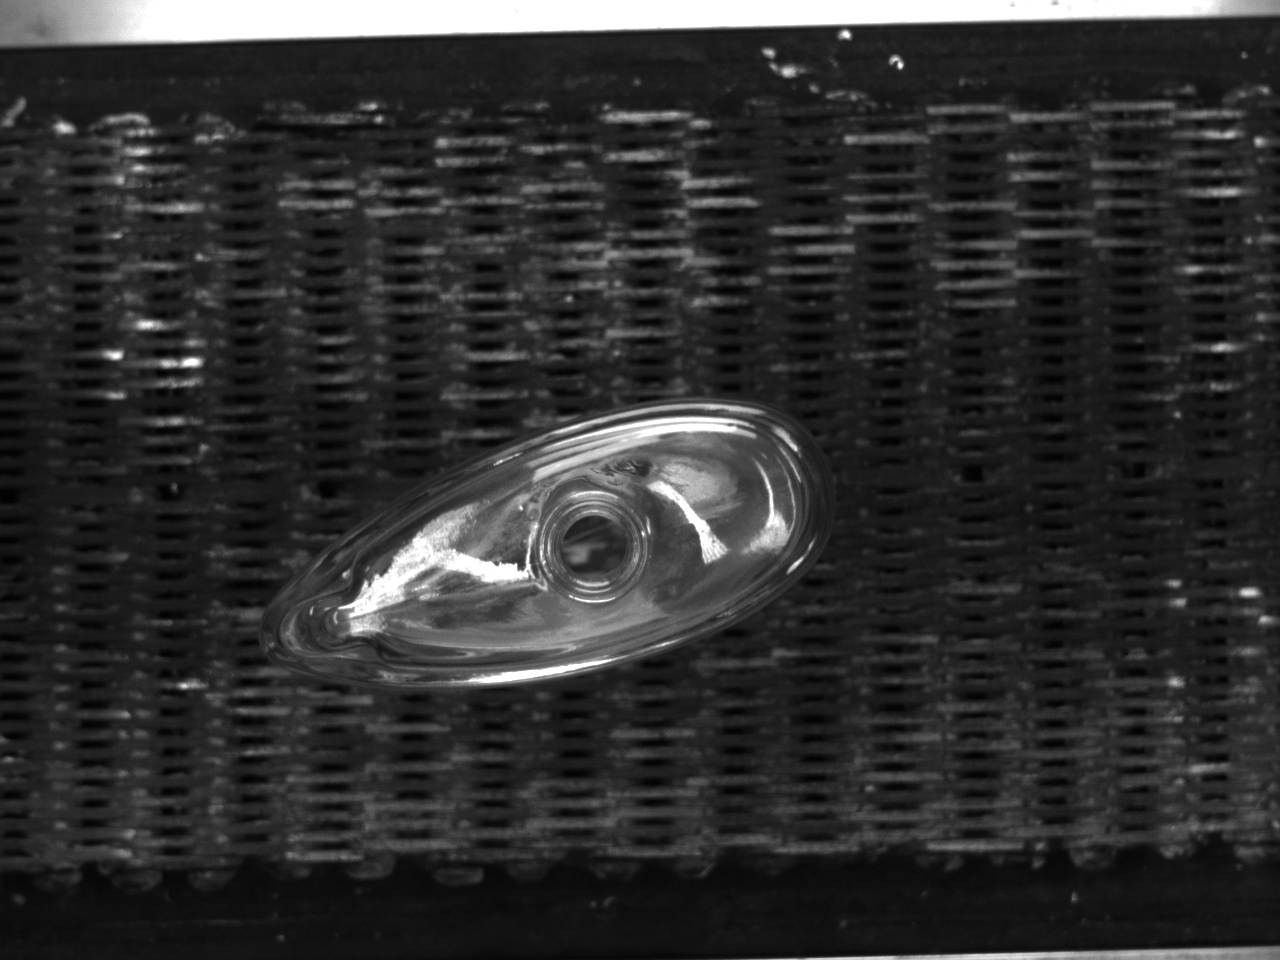bottleneck: (541, 491, 650, 604)
